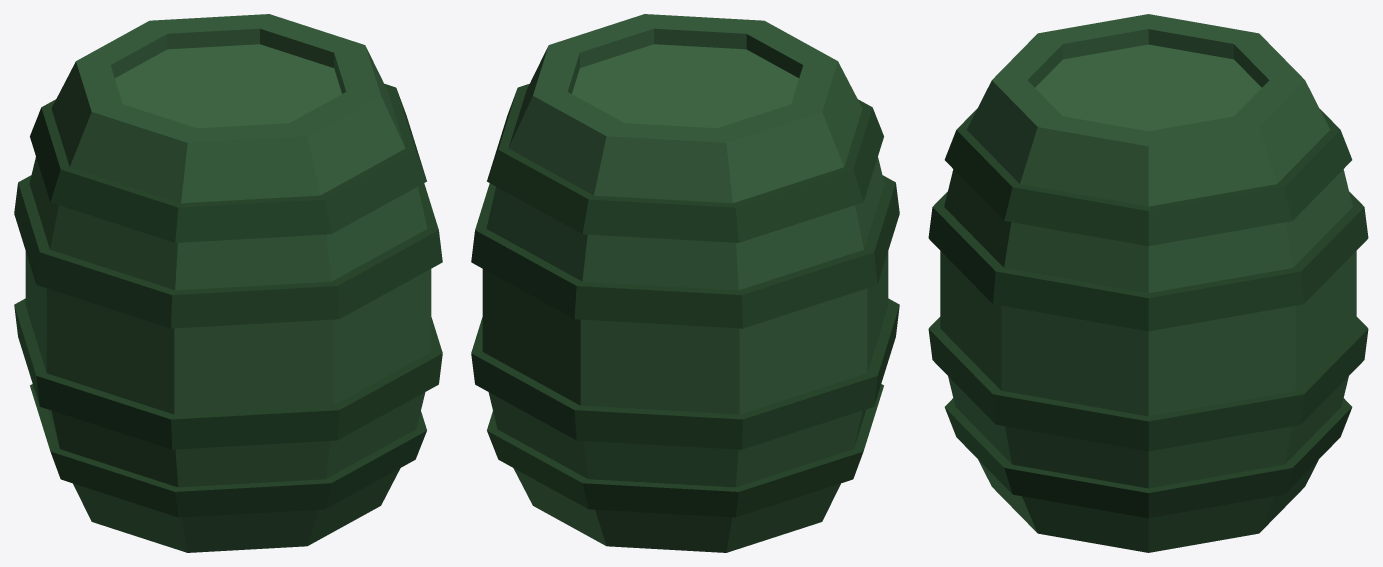
File: Ship_027.glb
The picture shows the model from 3 angles, left to right: view 1: azimuth 30°, elevation 25°; view 2: azimuth 150°, elevation 25°; view 3: azimuth 270°, elevation 25°; orthographic projection.
Parts seen in each view (by area): view 1: Ship_027; view 2: Ship_027; view 3: Ship_027.
Part boxes in pixels (box(x1,y1,x2,y2)): Ship_027: box(14, 14, 442, 552); Ship_027: box(471, 14, 899, 552); Ship_027: box(928, 14, 1368, 552).
Size of the model in its own units: 0.9202 by 0.9381 by 0.9201.
Materials: 1 (1 with a texture image).
